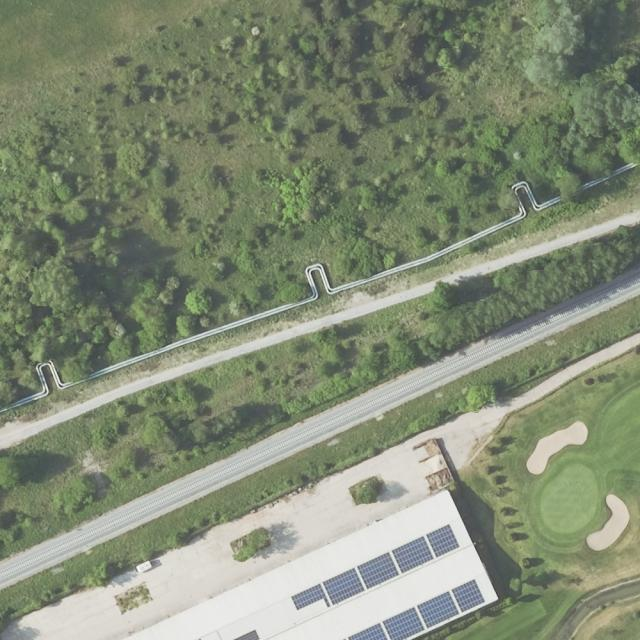PV: (391, 535, 435, 573), (323, 567, 365, 605), (357, 552, 399, 589), (417, 591, 459, 628), (382, 607, 425, 640), (451, 579, 486, 612), (426, 525, 460, 557), (291, 583, 331, 610), (349, 623, 389, 640)
